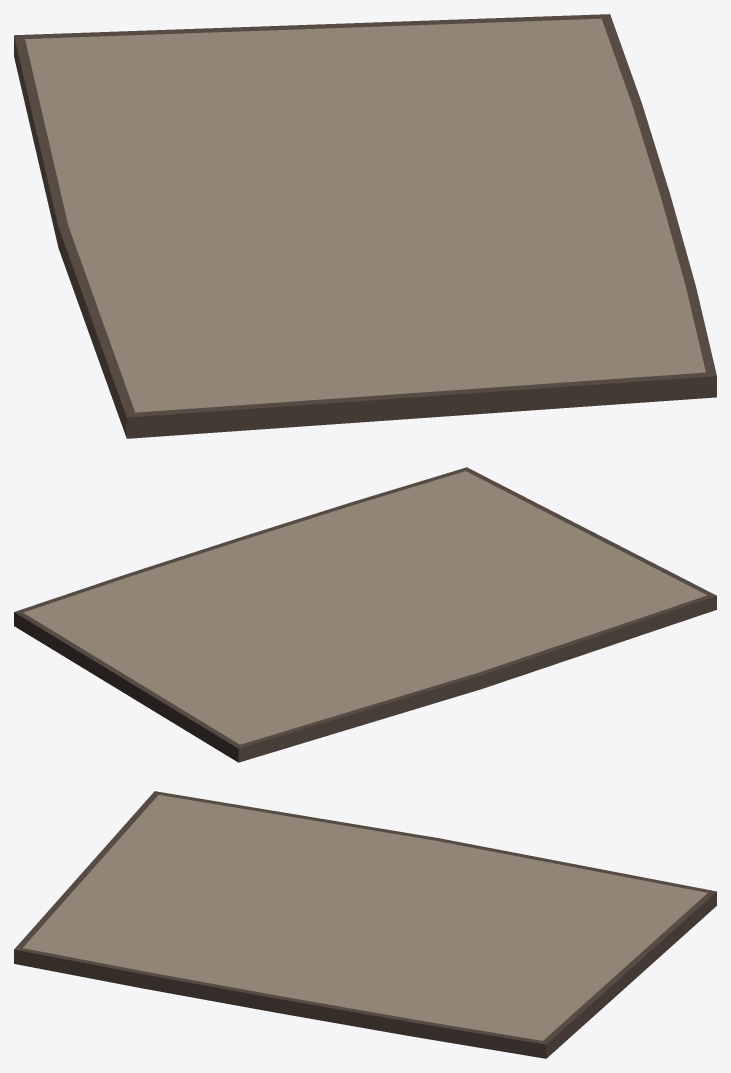
File: shell_elevator.glb
The picture shows the model from 3 angles, top to bottom: view 1: azimuth 30°, elevation 25°; view 2: azimuth 150°, elevation 25°; view 3: azimuth 270°, elevation 25°; orthographic projection. The views are drawn at different scales.
Parts seen in each view (by area): view 1: TheShell_Elevator; view 2: TheShell_Elevator; view 3: TheShell_Elevator.
Boxes of the visible parts, box(x1,y1,x2,y2) form: TheShell_Elevator: box(14, 14, 716, 438); TheShell_Elevator: box(14, 467, 716, 762); TheShell_Elevator: box(14, 791, 716, 1058).
Size of what is drawn, in the model's own units: 7.52 by 0.1974 by 8.81.
Materials: 2 (2 with a texture image).
